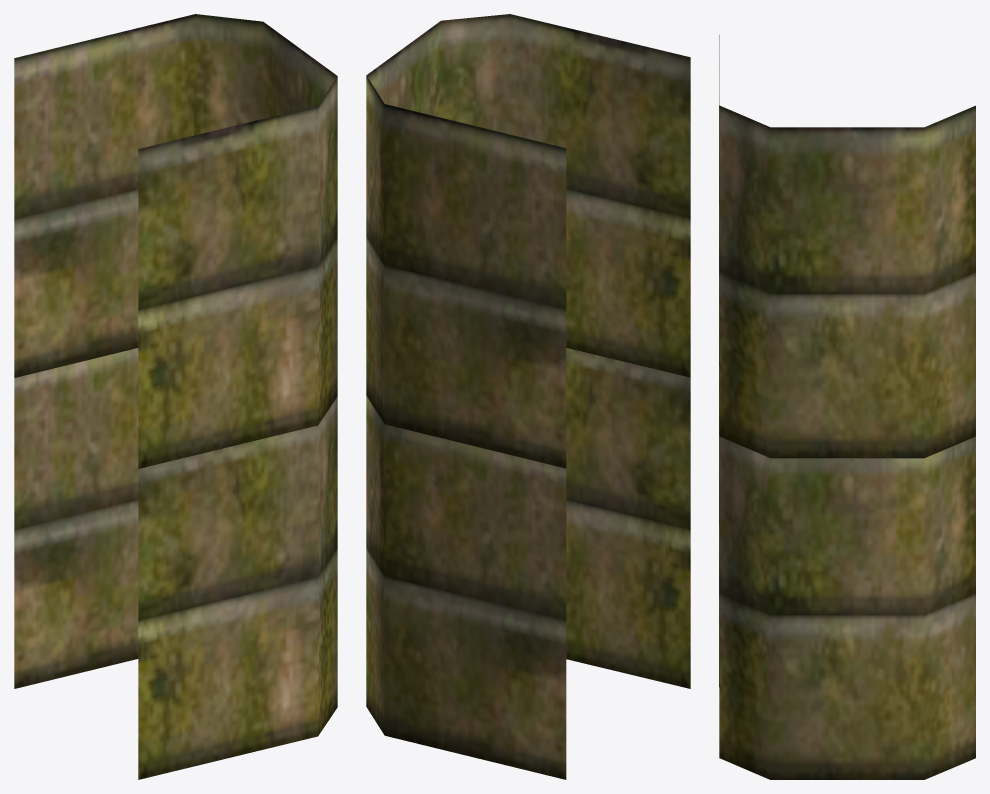
File: OVERHILL_A_01_LINE428.fbx
The picture shows the model from 3 angles, left to right: view 1: azimuth 30°, elevation 25°; view 2: azimuth 150°, elevation 25°; view 3: azimuth 270°, elevation 25°; orthographic projection. The views are drawn at different scales.
Visible parts, largest first — view 1: OVERHILL_A_01_LINE428; view 2: OVERHILL_A_01_LINE428; view 3: OVERHILL_A_01_LINE428.
Boxes of the visible parts, <box> form: OVERHILL_A_01_LINE428: <box>14,14,337,779</box>; OVERHILL_A_01_LINE428: <box>366,14,690,779</box>; OVERHILL_A_01_LINE428: <box>719,35,975,779</box>.
Size of the model in its own units: 10021 by 26954 by 9604.
1 material, 1 textured.
